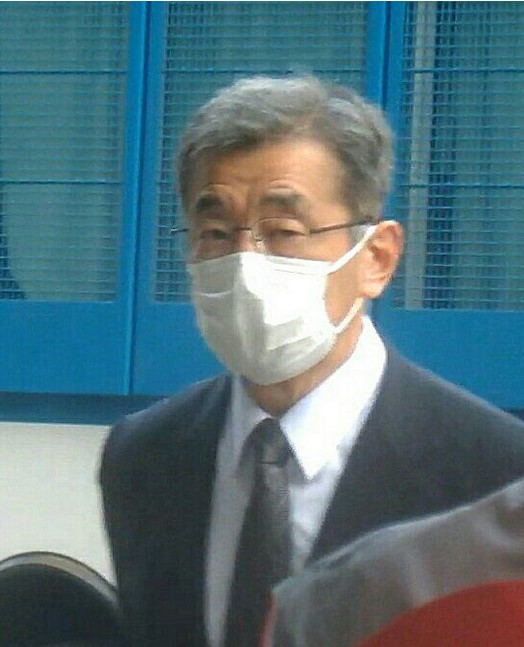face_with_mask: (173, 69, 408, 387)
